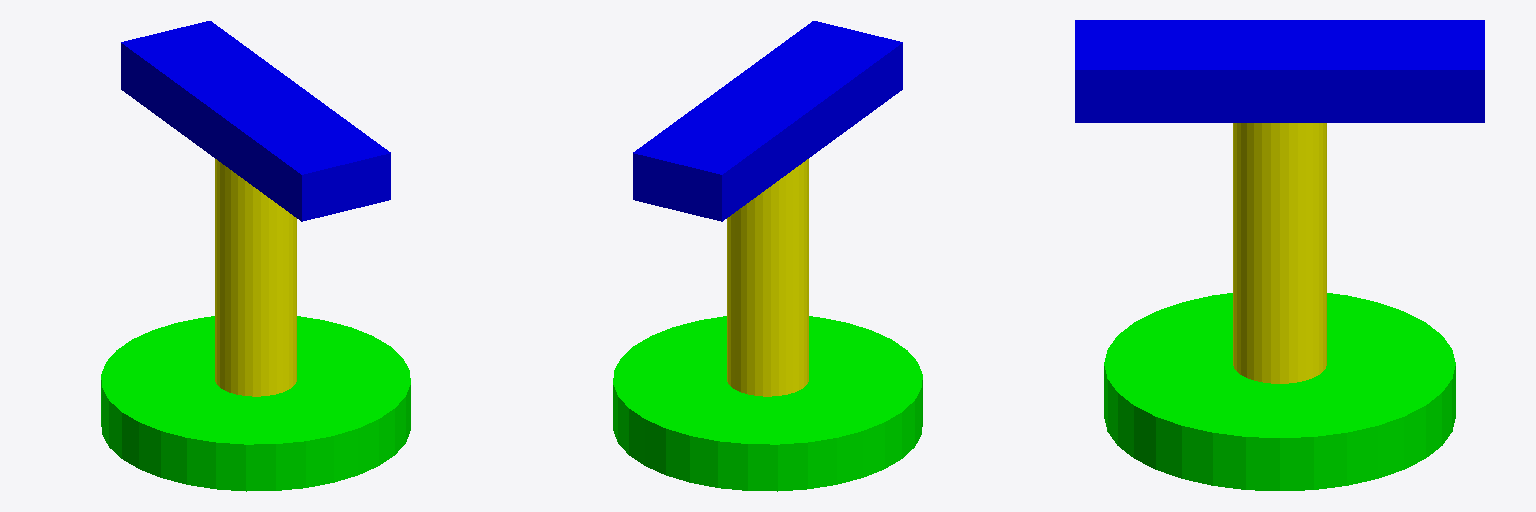
robot.urdf — simple_robot:
<?xml version="1.0"?> <!-- Define la versión del estándar XML utilizada -->
<robot name="simple_robot"> <!-- Comienza la definición del robot y le da el nombre "simple_robot" -->
<!-- hay 3 piezas que están unidas por 2 uniones (joints)-->
<!-- rotaciones pueden ser: prismáticas o rotacionales-->
<!-- c1: es las coordenadas (base_link) -->
<!-- c2: es el sistema de coordenadas de (joint_1 - revolute) -->
<!-- c3: es el centro de (first_link) -->
<!-- c4: es el sistema de coordenadas de (joint_2 - prismatic) -->
<!-- c5:  es el centro de (second_link) -->
  <!-- C1 -->
  <link name="base_link"> <!-- Define un enlace llamado "base_link", que es la base del robot -->
    <visual> <!-- Define la apariencia visual del enlace -->
      <geometry> <!-- Especifica la geometría del enlace -->
        <cylinder length="0.1" radius="0.3"/> <!-- Define la geometría como un cilindro con longitud de 0.1 y radio de 0.3 -->
      </geometry>
      <!-- origin- el marco de referencia del elemento visual con respecto al marco de referencia del enlace -->
      <!-- rpy- r es roll, p es pitch y y es yaw -->
      <!-- xyz - desplazamientos en los ejes x, y, z -->
      <!-- No hay rotación respecto del sistema de coordenadas del mundo real -->
      <origin rpy="0 0 0" xyz="0 0 0"/> <!-- Define el origen de la geometría respecto al enlace (sin rotación ni desplazamiento) -->
      <material name="blue"> <!-- Define el material del enlace -->
        <color rgba="0 1 0 1"/> <!-- Especifica el color del material en formato RGBA (verde) -->
      </material>
    </visual>
  </link>

  <!-- C2 JOINT -->
  <joint name="joint_1" type="revolute"> <!-- Define una articulación llamada "joint_1" de tipo rotacional -->
    <parent link="base_link"/> <!-- Enlace anterior al que se une la articulación (origen de la unión) -->
    <child link="first_link"/> <!-- Enlace posterior al que se une la articulación (destino de la unión) -->
    <origin rpy="0 0 0" xyz="0 0 0.05"/> <!-- Posición de la articulación respecto al enlace base -->
    <axis xyz="0 0 1"/> <!-- Define el eje de rotación de la articulación (en el eje Z) -->
    <limit effort="300" velocity="2.0" lower="-1.2" upper="1.2"/> <!-- Limita el esfuerzo, velocidad y rango de movimiento de la articulación (en radianes) -->
  </joint>

  <!-- C3 -->
  <link name="first_link"> <!-- Define un enlace llamado "first_link" -->
    <visual> <!-- Define la apariencia visual del enlace -->
      <geometry> <!-- Especifica la geometría del enlace -->
        <cylinder length="0.5" radius="0.08"/> <!-- Define la geometría como un cilindro con longitud de 0.5 y radio de 0.08 -->
      </geometry>
      <origin rpy="0 0 0" xyz="0 0 0.25"/> <!-- Origen del enlace respecto a "joint_1" -->
      <material name="yellow"> <!-- Define el material del enlace -->
        <color rgba="1 1 0 1"/> <!-- Especifica el color del material en formato RGBA (amarillo) -->
      </material>
    </visual>
  </link>
  
  <!-- C4 JOINT -->
  <joint name="joint_2" type="prismatic"> <!-- Define una articulación llamada "joint_2" de tipo prismática (movimiento lineal) -->
    <parent link="first_link"/> <!-- Enlace anterior al que se une la articulación (origen de la unión) -->
    <child link="second_link"/> <!-- Enlace posterior al que se une la articulación (destino de la unión) -->
    <origin rpy="0 0 0" xyz="0 0 0.5"/> <!-- Posición de la articulación respecto al enlace "first_link" -->
    <axis xyz="0 1 0"/> <!-- Define el eje de movimiento lineal de la articulación (en el eje Y) -->
    <limit effort="300" velocity="2.0" lower="-2" upper="2"/> <!-- Limita el esfuerzo, velocidad y rango de movimiento de la articulación (en metros) -->
  </joint>

  <!-- C5 -->
  <link name="second_link"> <!-- Define un enlace llamado "second_link" -->
    <visual> <!-- Define la apariencia visual del enlace -->
      <geometry> <!-- Especifica la geometría del enlace -->
        <box size="0.2 0.7 0.1"/> <!-- Define la geometría como una caja con dimensiones especificadas -->
      </geometry>
      <origin rpy="0 0 0" xyz="0 0 0.05"/> <!-- Origen del enlace respecto a "joint_2" -->
      <material name="red"> <!-- Define el material del enlace -->
        <color rgba="0 0 1 1"/> <!-- Especifica el color del material en formato RGBA (azul) -->
      </material>
    </visual>
  </link>

</robot> <!-- Cierra la definición del robot -->

--- Render facts (derived) ---
Views: 3 orthographic renders of the robot side by side, from view 1: azimuth 30°, elevation 25°; view 2: azimuth 150°, elevation 25°; view 3: azimuth 270°, elevation 25°.
Robot: simple_robot — 3 links, 2 joints (1 revolute, 1 prismatic); root link base_link; default pose: every joint at zero.
Visible links, largest first — view 1: base_link, second_link, first_link; view 2: base_link, second_link, first_link; view 3: base_link, second_link, first_link.
Boxes of the visible links, x1,y1,x2,y2 form: base_link: (101, 316, 410, 491); second_link: (121, 21, 390, 221); first_link: (215, 159, 296, 396); base_link: (613, 316, 922, 491); second_link: (633, 21, 902, 221); first_link: (727, 159, 808, 396); base_link: (1104, 293, 1455, 490); second_link: (1075, 20, 1484, 122); first_link: (1233, 123, 1326, 383).
Size in the robot's own frame: 0.6 by 0.7 by 0.7 metres.
Geometry: primitives only (box / cylinder / sphere), no mesh files.
